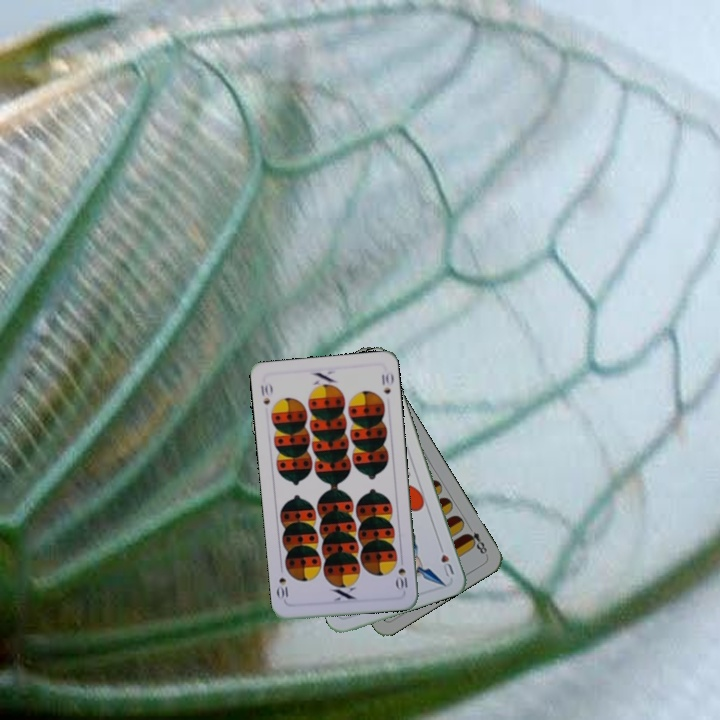E8: (462, 521, 490, 558)
HU: (435, 540, 456, 579)
S10: (256, 379, 275, 407), (393, 564, 410, 593)
